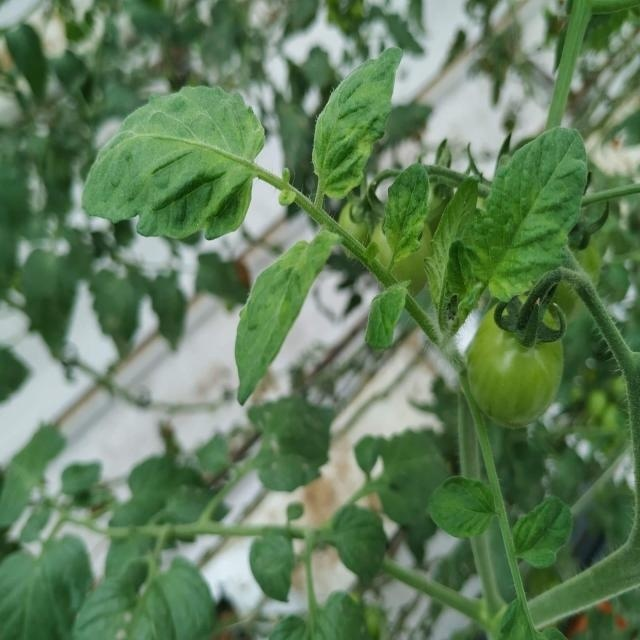T_F_R: (469, 308, 565, 429)
T_L_H: (236, 230, 341, 404), (514, 498, 574, 569), (430, 478, 496, 538)
T_L_R: (83, 86, 265, 239), (472, 128, 589, 303), (313, 47, 403, 207), (385, 164, 430, 271)
T_S_H: (460, 371, 540, 639)
T_S_R: (460, 371, 541, 639), (296, 194, 397, 289), (406, 296, 444, 346)
